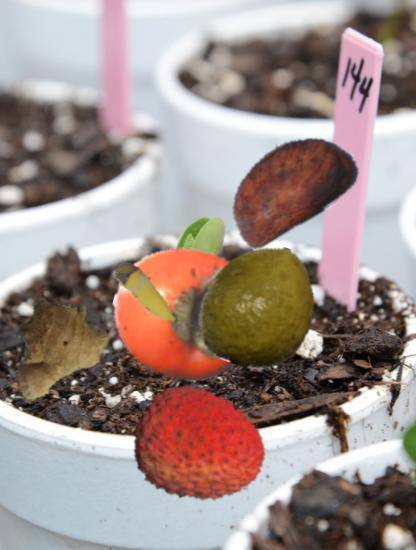Banana: (106, 252, 194, 340)
Chestnut: (220, 114, 362, 256)
Ginger: (2, 298, 115, 411)
Guava: (196, 242, 323, 369)
Kaki: (112, 241, 260, 389)
Lychee: (134, 381, 268, 515)
